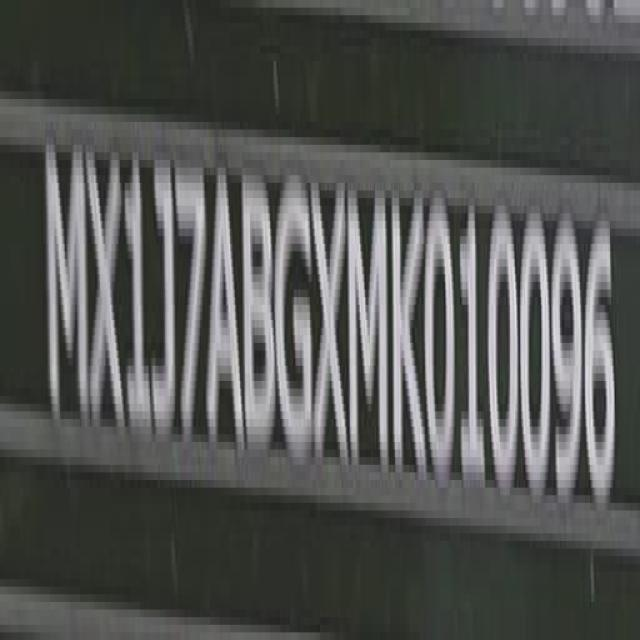0: (489, 207, 523, 496), (521, 213, 552, 500), (426, 197, 456, 487)
1: (458, 193, 483, 488)
6: (584, 217, 618, 522)
7: (178, 158, 210, 452)
9: (551, 215, 582, 501)
A: (208, 162, 242, 454)
B: (242, 172, 276, 463)
G: (275, 172, 316, 469)
K: (392, 175, 428, 491)
L: (126, 151, 158, 443), (149, 157, 179, 448)
M: (43, 132, 87, 436), (350, 179, 390, 479)
X: (88, 144, 125, 443), (313, 176, 349, 473)
